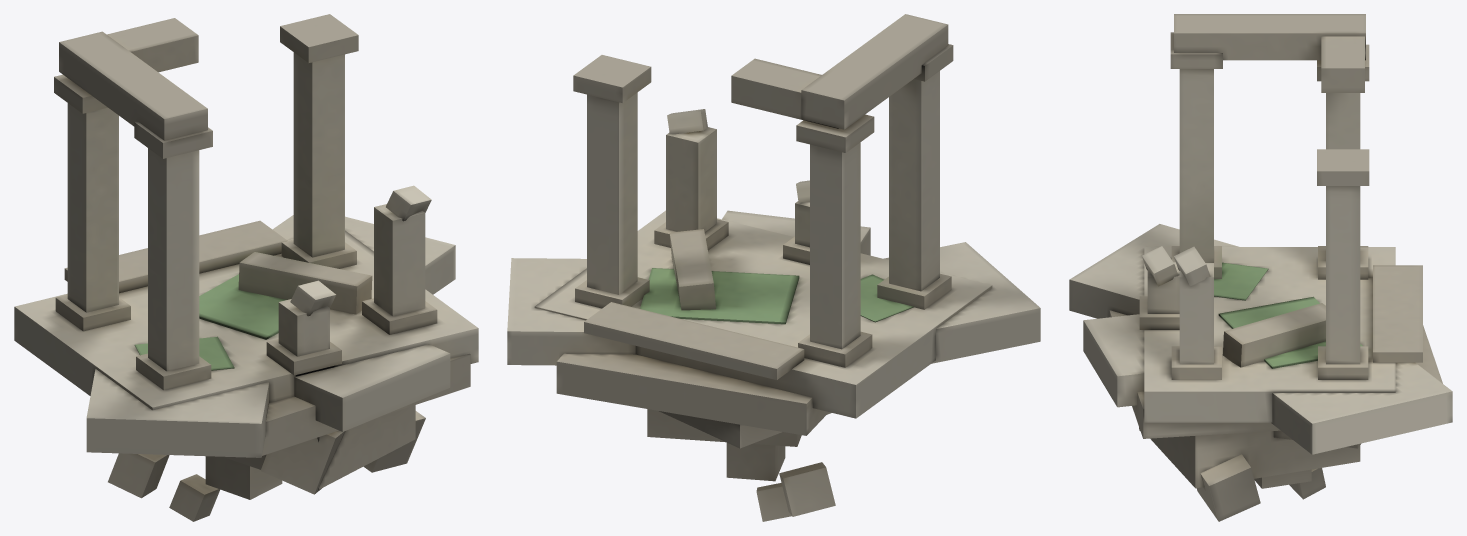
Rendered from skyruin.glb.
The picture shows the model from 3 angles, left to right: view 1: azimuth 30°, elevation 25°; view 2: azimuth 150°, elevation 25°; view 3: azimuth 270°, elevation 25°; orthographic projection. The views are drawn at different scales.
Visible parts, largest first — view 1: skyruin; view 2: skyruin; view 3: skyruin.
Boxes of the visible parts, x1,y1,x2,y2 form: skyruin: (14,14,478,521); skyruin: (507,14,1040,521); skyruin: (1069,14,1452,521).
Bounding box in the file's own units: 20.84 × 20.95 × 16.77.
3 materials, 3 textured.
